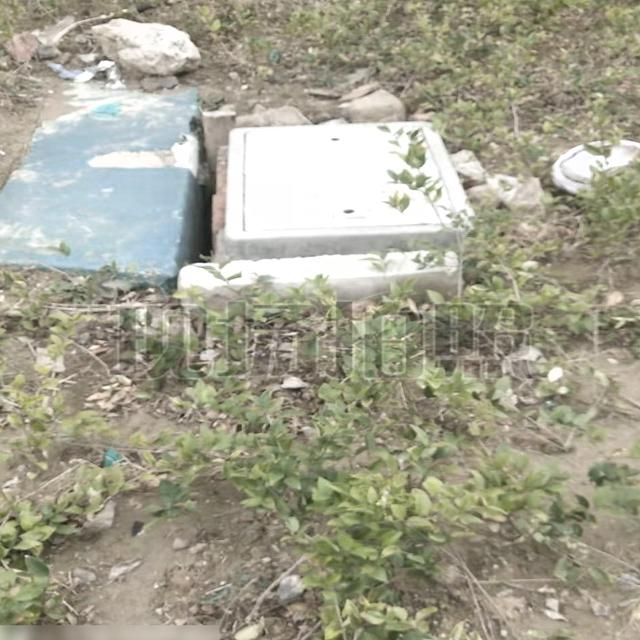circle: (173, 109, 493, 289)
